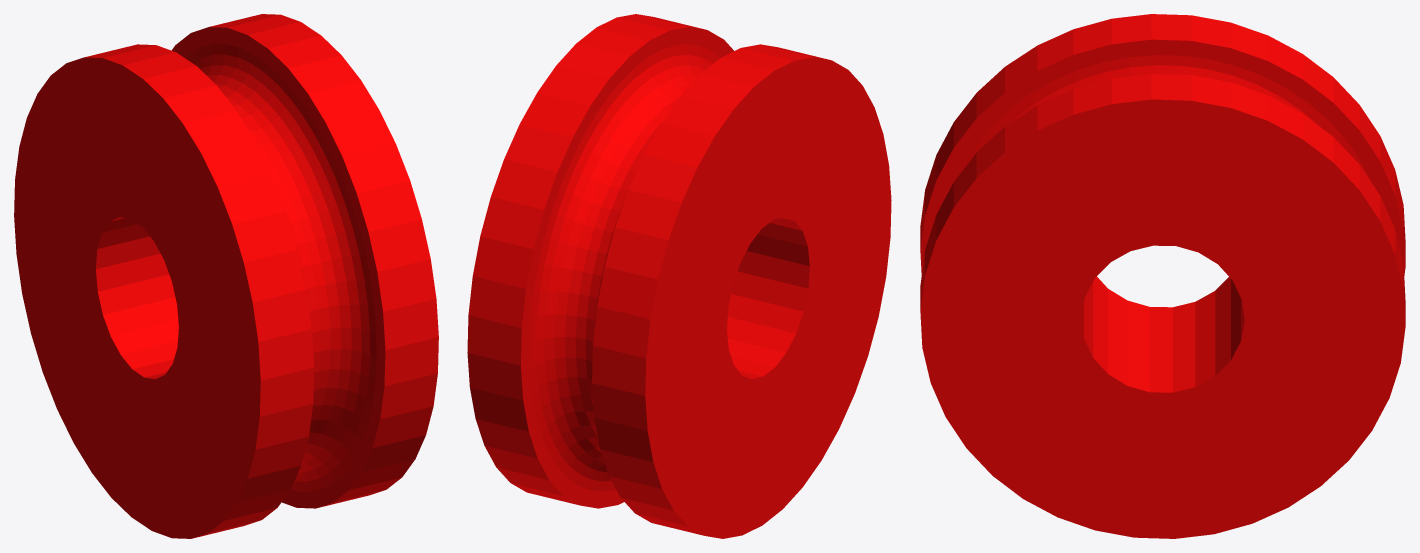
File: power_cart_wl1_visuals_wl1_mesh.obj
3 views of the same model, side by side, from view 1: azimuth 30°, elevation 25°; view 2: azimuth 150°, elevation 25°; view 3: azimuth 270°, elevation 25° (orthographic).
Bounding box in the file's own units: 0.5 × 1.2 × 1.2.
